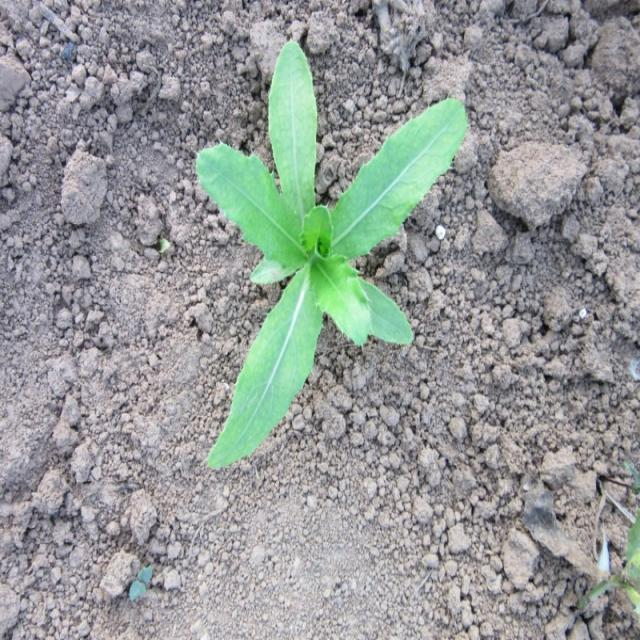cs: (194, 40, 472, 474)
